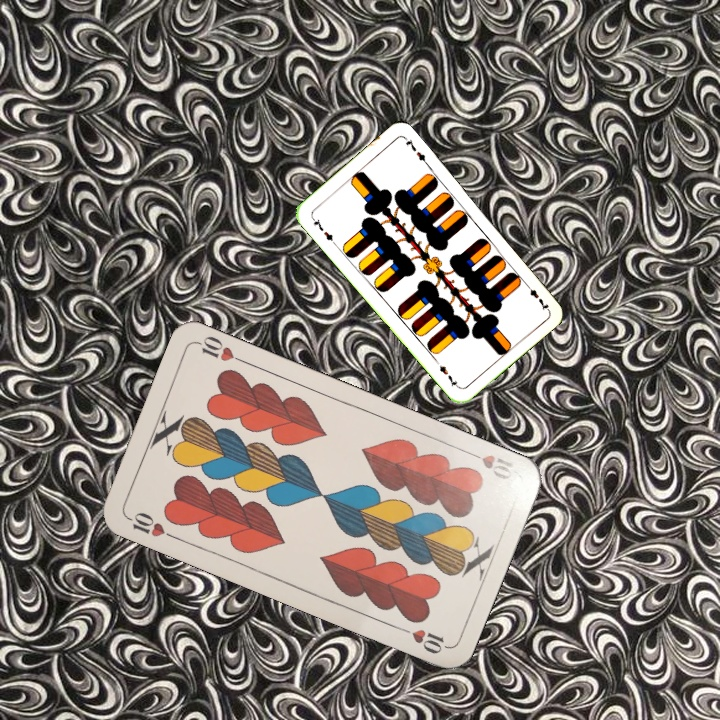E7: (308, 213, 338, 247), (521, 278, 551, 312)
H10: (123, 508, 179, 542), (463, 447, 516, 482)
